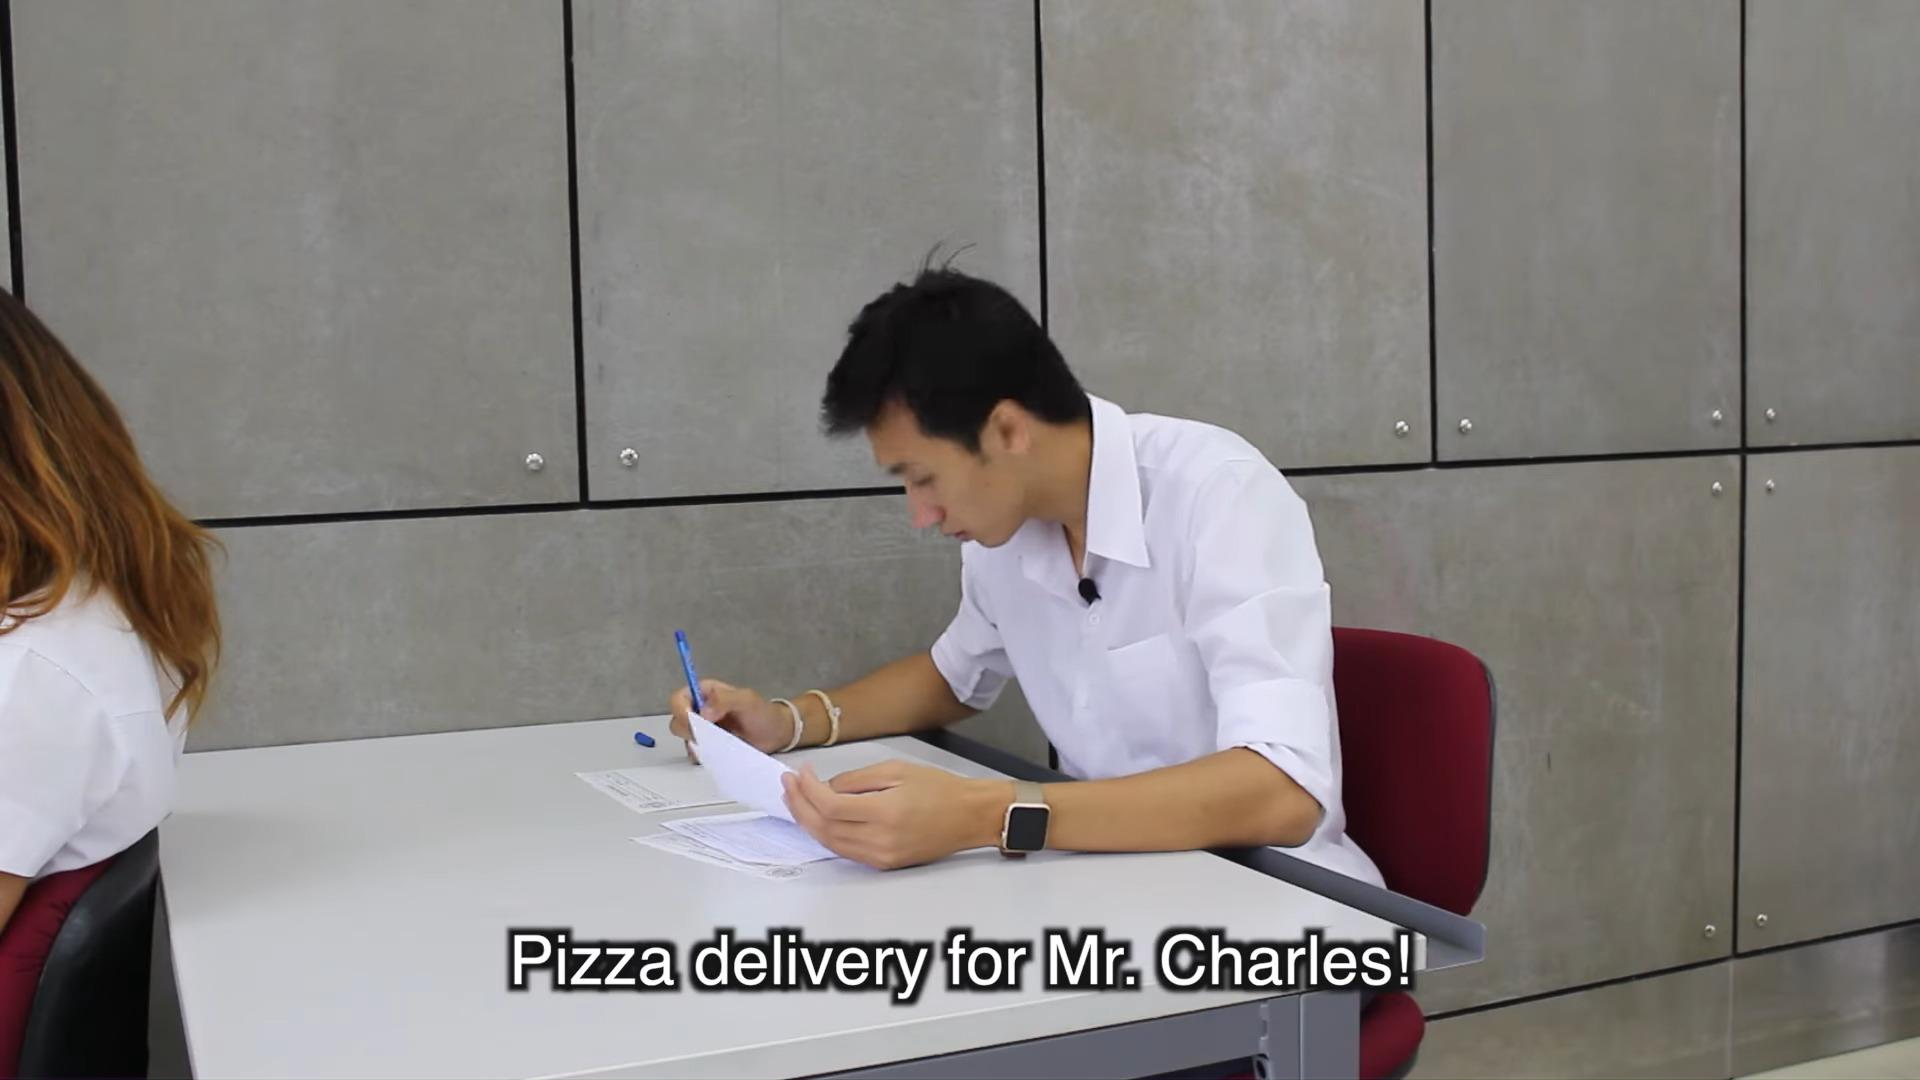good: (568, 240, 1381, 899)
